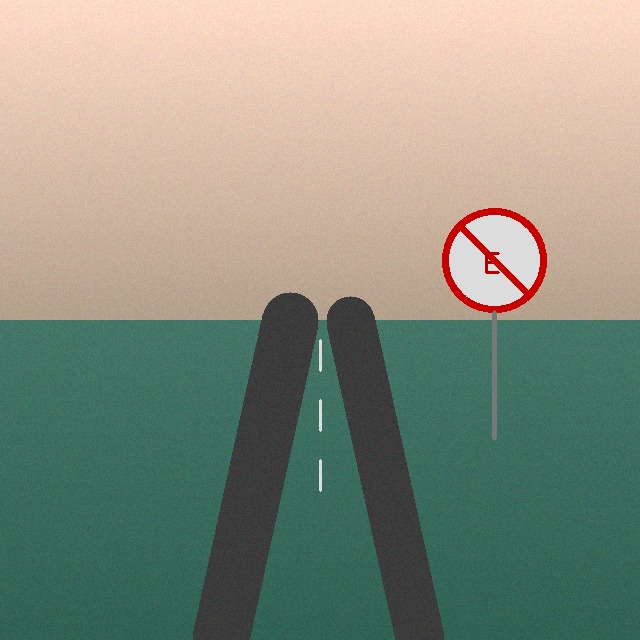no_estacionar: (443, 209, 546, 312)
